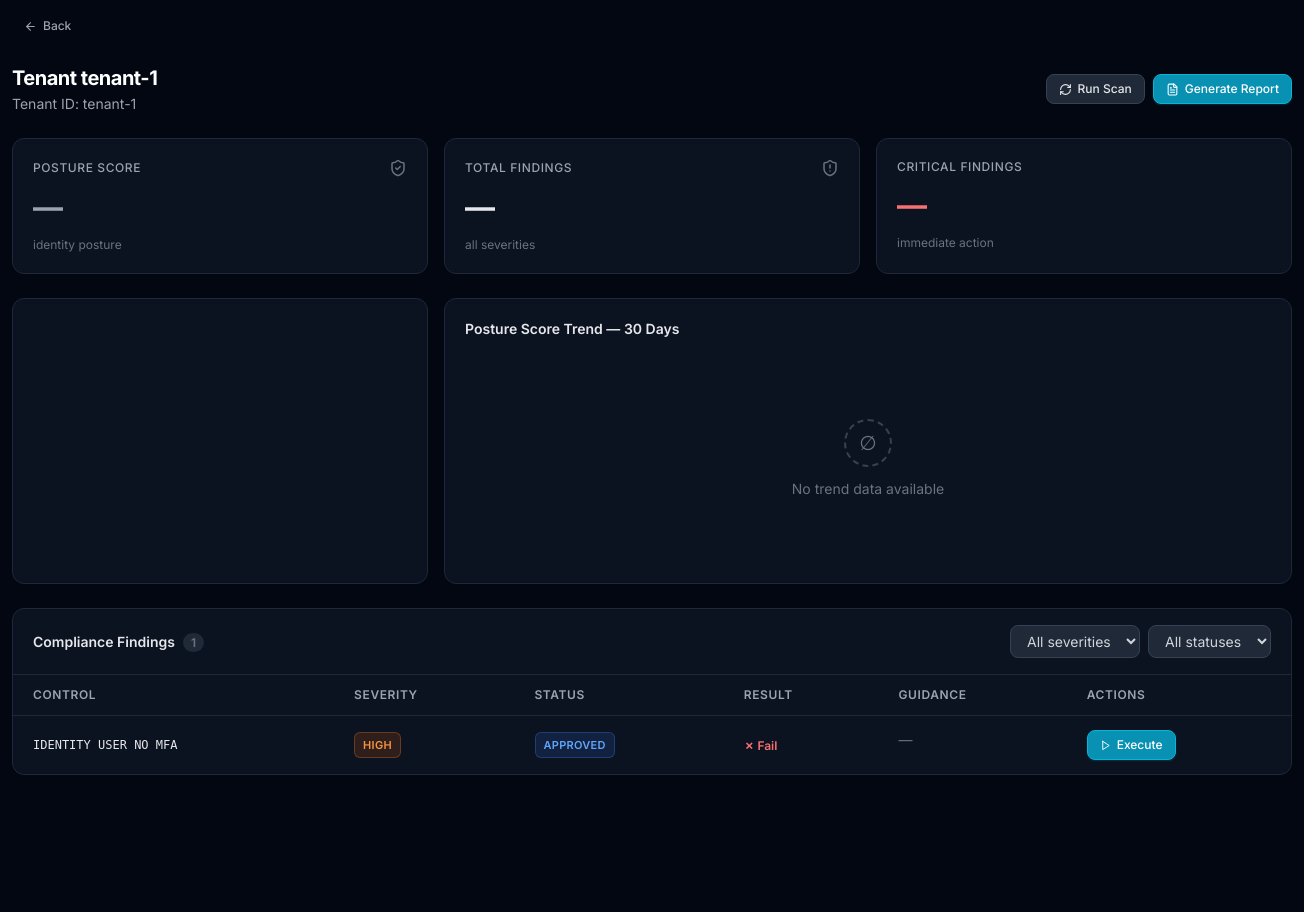
Scenario: shows the failure when execute resolves with a non-success status
Click the button "Execute" at [1131, 745], box [1087, 730, 1176, 760]
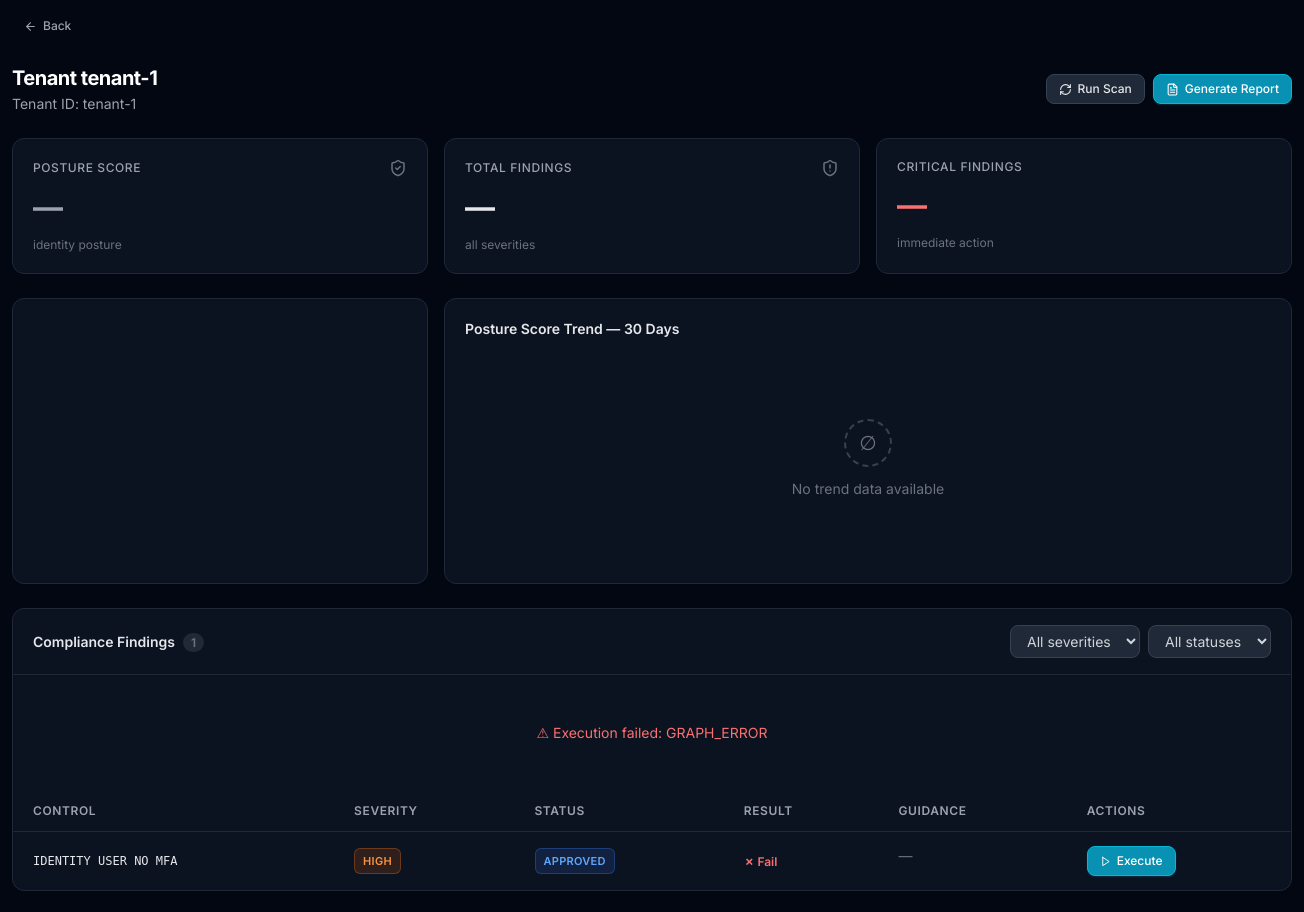
Expected: the text "⚠ Execution failed: GRAPH_ERROR" is shown, [536, 723, 768, 743]
